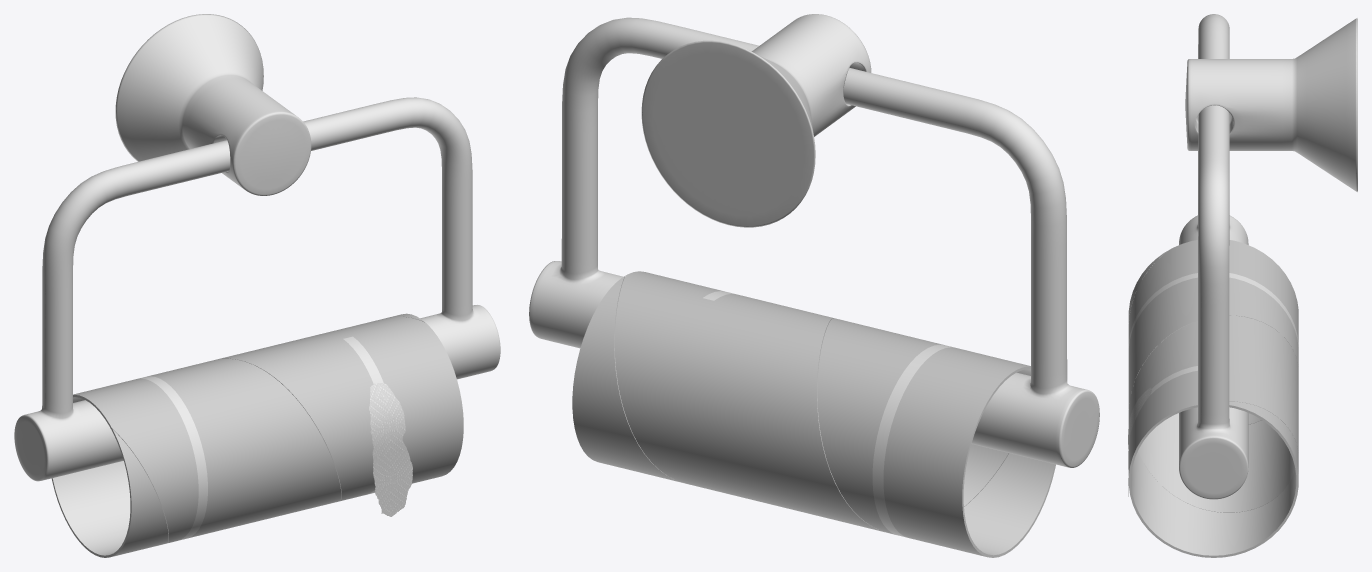
The model's file is RollFin.fbx.
The picture shows the model from 3 angles, left to right: view 1: azimuth 30°, elevation 25°; view 2: azimuth 150°, elevation 25°; view 3: azimuth 270°, elevation 25°; orthographic projection. The views are drawn at different scales.
Parts seen in each view (by area): view 1: Roll, Holder, Upper part, TornPaper; view 2: Roll, Holder, Upper part; view 3: Roll, Holder, Upper part, TornPaper.
Part boxes in pixels (x1,y1,x2,y2): Roll: [51, 313, 463, 557]; Holder: [14, 97, 500, 481]; Upper part: [115, 14, 311, 195]; TornPaper: [369, 383, 412, 516]; Roll: [572, 271, 1055, 557]; Holder: [529, 17, 1099, 467]; Upper part: [641, 14, 871, 227]; Roll: [1128, 240, 1298, 557]; Holder: [1179, 14, 1248, 499]; Upper part: [1185, 18, 1357, 191]; TornPaper: [1128, 387, 1151, 496].
Bounding box in the file's own units: 929 × 867 × 400.
